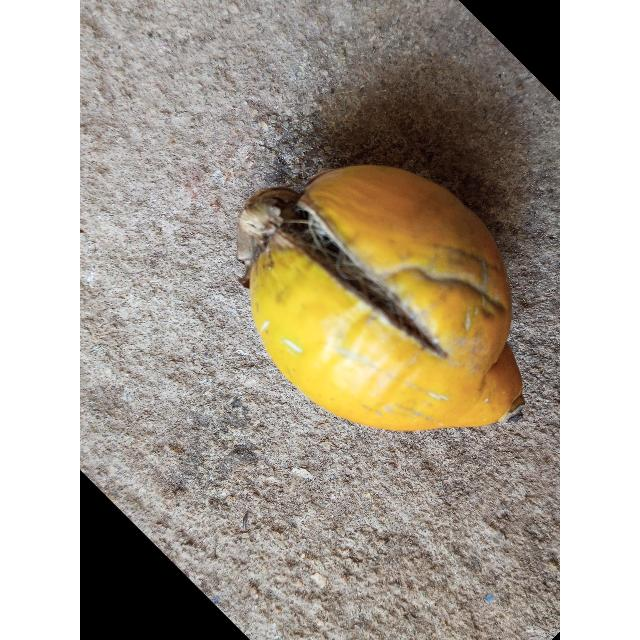damaged: (237, 165, 525, 435)
